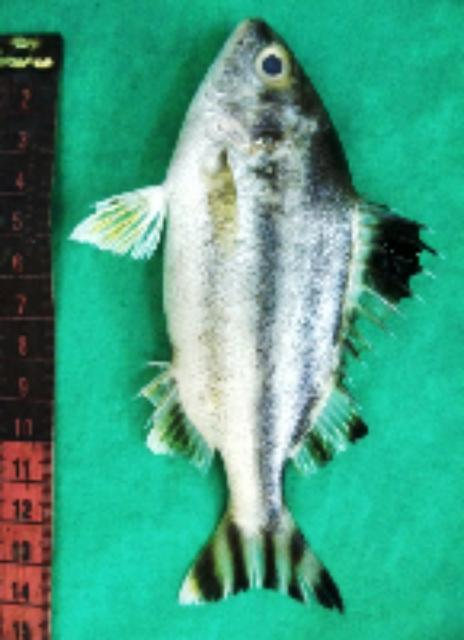Mulut: (206, 0, 294, 60)
Sirip Anal: (134, 350, 226, 490)
Sirip Dada: (197, 143, 253, 253)
Sirip Ekor: (162, 496, 366, 622)
Sirip Perut: (66, 180, 173, 270)
Sirip Punggung: (283, 192, 451, 483)
